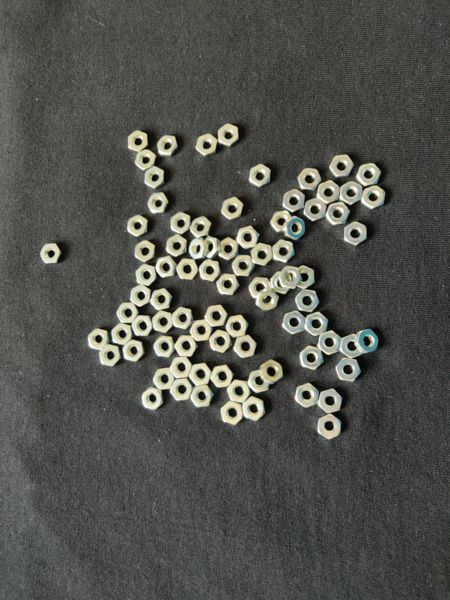nut: (318, 388, 343, 414), (318, 413, 342, 440), (362, 185, 387, 210), (336, 358, 362, 382), (300, 345, 324, 371), (305, 311, 329, 337), (356, 163, 381, 187), (295, 384, 320, 408), (221, 401, 245, 426), (319, 330, 342, 356), (261, 359, 284, 385), (330, 155, 354, 179), (296, 289, 320, 313), (242, 397, 266, 421), (341, 181, 364, 206), (326, 202, 351, 225), (282, 311, 307, 334), (345, 222, 368, 246), (317, 180, 340, 204), (298, 168, 322, 191), (356, 330, 379, 354), (248, 370, 271, 394), (228, 380, 252, 403), (237, 226, 261, 249), (211, 366, 235, 389), (304, 199, 327, 222), (283, 190, 306, 213), (280, 266, 303, 289), (234, 335, 257, 358), (226, 315, 249, 338), (189, 364, 212, 387), (273, 239, 295, 263), (256, 289, 280, 311), (190, 385, 214, 407), (142, 387, 164, 411), (341, 334, 362, 359), (218, 123, 239, 148), (197, 133, 218, 158), (284, 217, 306, 240), (271, 272, 293, 295), (249, 277, 272, 299), (251, 243, 273, 266), (210, 330, 232, 353), (205, 305, 228, 327), (190, 320, 213, 342), (171, 379, 194, 401), (175, 336, 198, 358), (200, 259, 222, 282), (187, 238, 209, 261), (166, 234, 188, 257), (172, 307, 194, 330), (130, 284, 152, 307), (123, 340, 145, 363), (250, 164, 271, 188), (271, 211, 293, 233), (217, 274, 239, 296), (171, 357, 193, 379), (156, 256, 178, 278), (151, 289, 173, 311), (154, 336, 176, 358), (99, 345, 121, 367), (294, 266, 315, 289), (233, 255, 256, 276), (154, 368, 175, 391), (176, 259, 199, 280), (153, 311, 174, 334), (145, 166, 165, 190), (222, 198, 243, 220), (157, 135, 178, 157), (128, 130, 149, 152), (147, 193, 169, 214), (128, 215, 149, 237), (136, 264, 157, 286), (132, 315, 153, 337), (112, 323, 133, 345), (88, 328, 109, 350), (135, 240, 155, 263), (219, 237, 238, 261), (41, 243, 62, 264), (191, 217, 211, 239), (117, 303, 139, 323), (203, 235, 221, 259), (136, 150, 156, 171), (172, 213, 191, 235)
